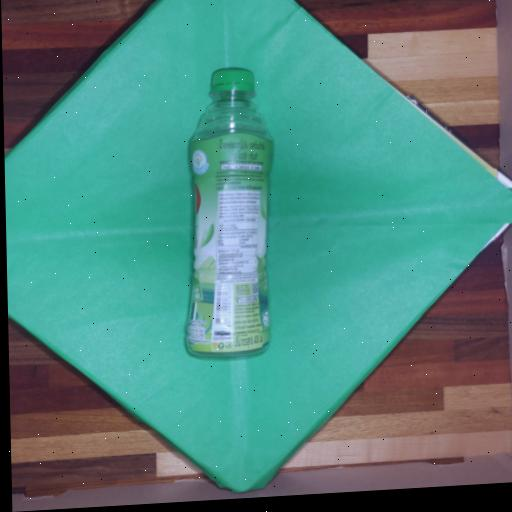bottle: (165, 41, 299, 372)
